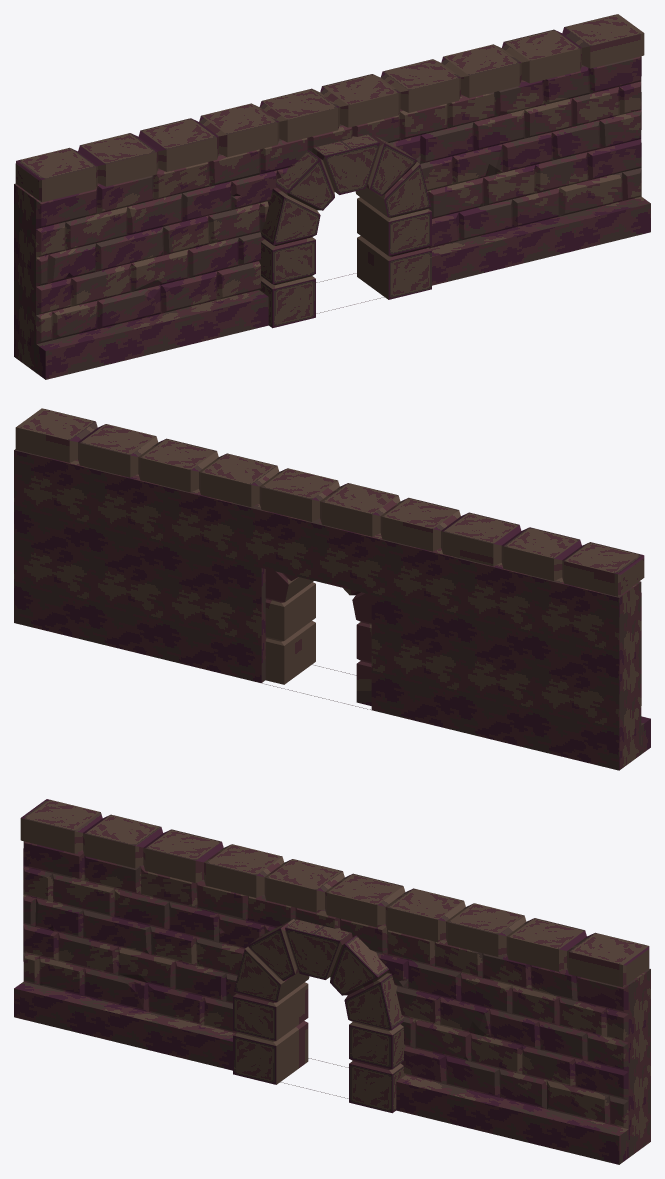
Rendered from brick_wall_opened.fbx.
The picture shows the model from 3 angles, top to bottom: view 1: azimuth 30°, elevation 25°; view 2: azimuth 150°, elevation 25°; view 3: azimuth 330°, elevation 25°; orthographic projection.
Visible parts, largest first — view 1: Wall_Top; view 2: Wall_Top; view 3: Wall_Top.
Part boxes in pixels (x1=…): Wall_Top: x1=14, y1=14, x2=650, y2=379; Wall_Top: x1=14, y1=408, x2=650, y2=770; Wall_Top: x1=14, y1=799, x2=650, y2=1164.
Size of the model in its own units: 2201 by 680 by 225.
2 materials, 2 textured.
